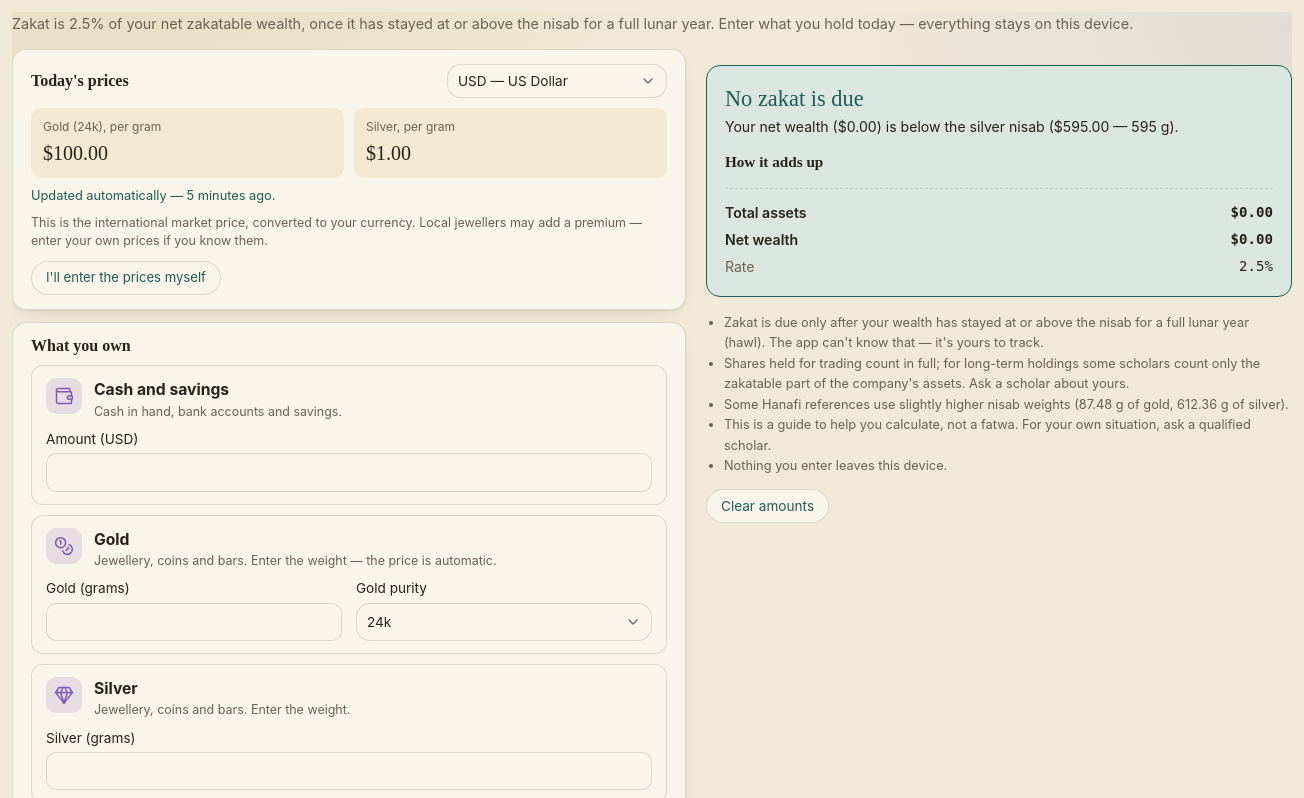
Test: ZakatCalculator — the five kinds of wealth › prices silver by weight
The width and height of the screenshot is (1304, 798).
In the field labelled "Silver (grams)": point(349, 771) [46,752,652,790], type "1000"
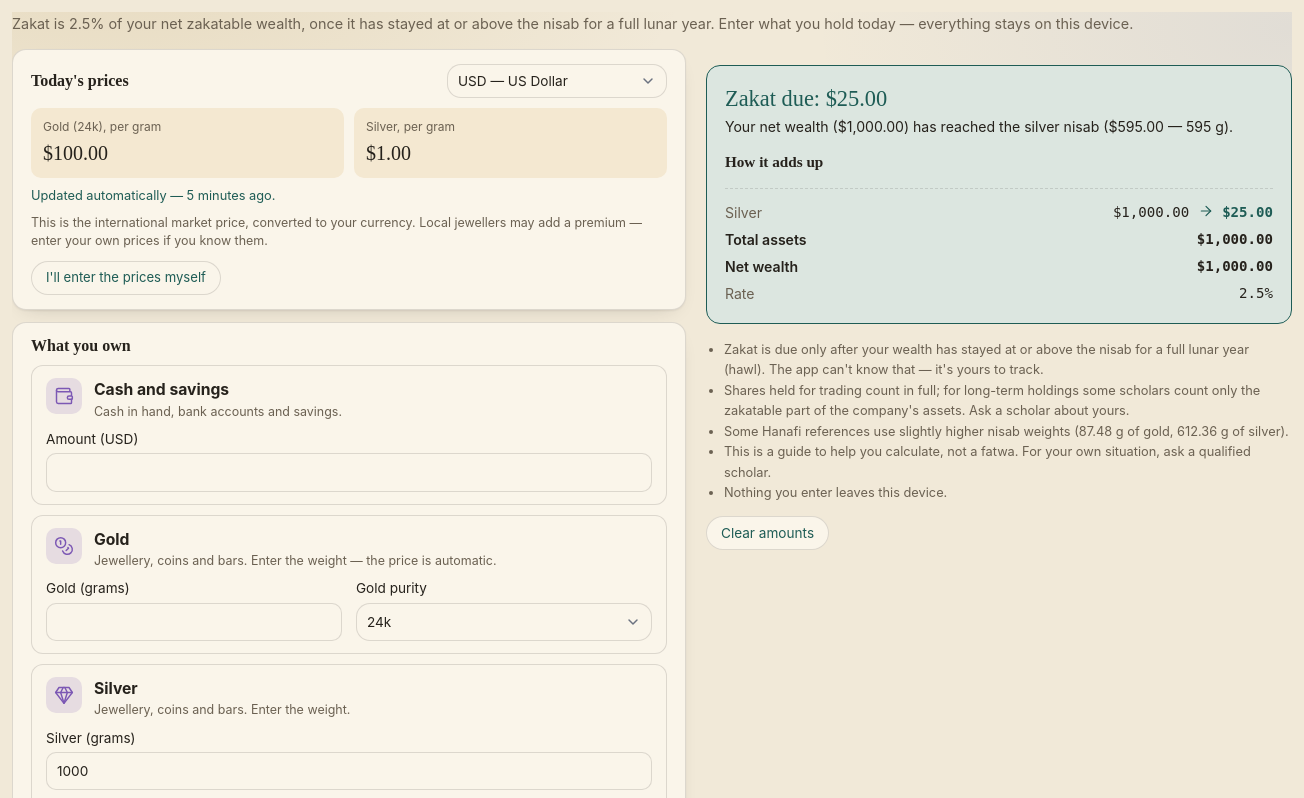
Check: the element with class "zakat-result" shows "Zakat due: $25.00", box [725,86,887,111]
